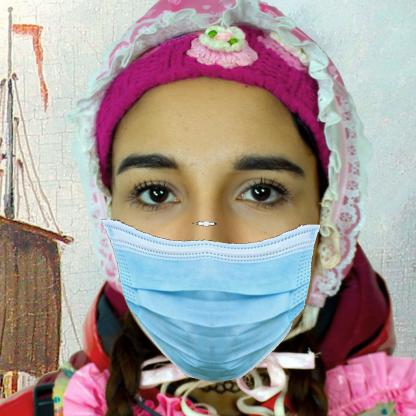Correctly_Masked: (107, 79, 323, 385)
